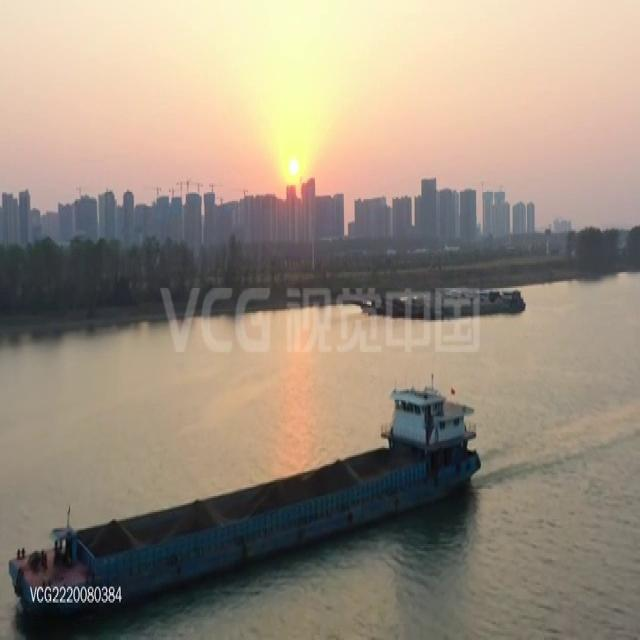cargoship: (10, 378, 481, 610)
